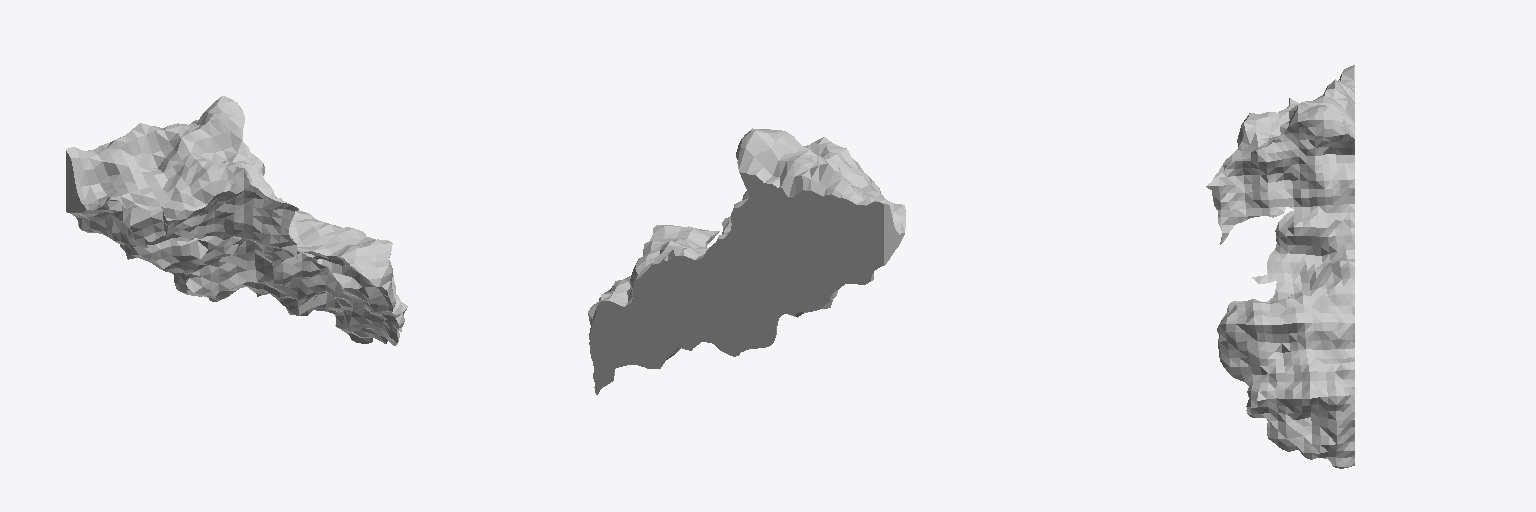
Rendered from cube_20_seed_4_shard.017.obj.
The picture shows the model from 3 angles: view 1: azimuth 30°, elevation 25°; view 2: azimuth 150°, elevation 25°; view 3: azimuth 270°, elevation 25°; orthographic projection.
Parts seen in each view (by area): view 1: Cube_shard.017_Cube_shard.157; view 2: Cube_shard.017_Cube_shard.157; view 3: Cube_shard.017_Cube_shard.157.
Part boxes in pixels (left/top/right/bottom): Cube_shard.017_Cube_shard.157: left=66, top=96, right=407, bottom=345; Cube_shard.017_Cube_shard.157: left=588, top=128, right=905, bottom=394; Cube_shard.017_Cube_shard.157: left=1206, top=65, right=1354, bottom=468.
Bounding box in the file's own units: 1.57 × 1.42 × 0.6601.